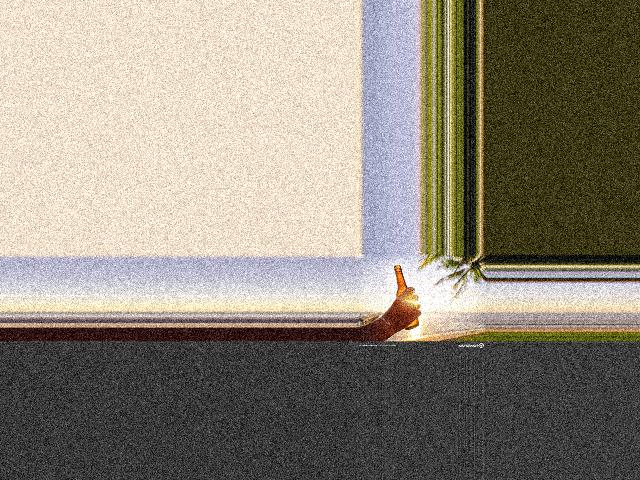beer: (392, 265, 418, 330)
